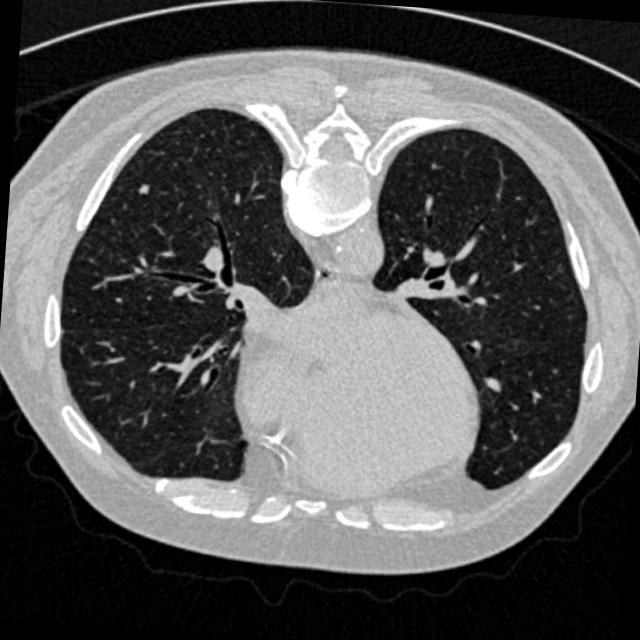nodule: (129, 178, 153, 202)
